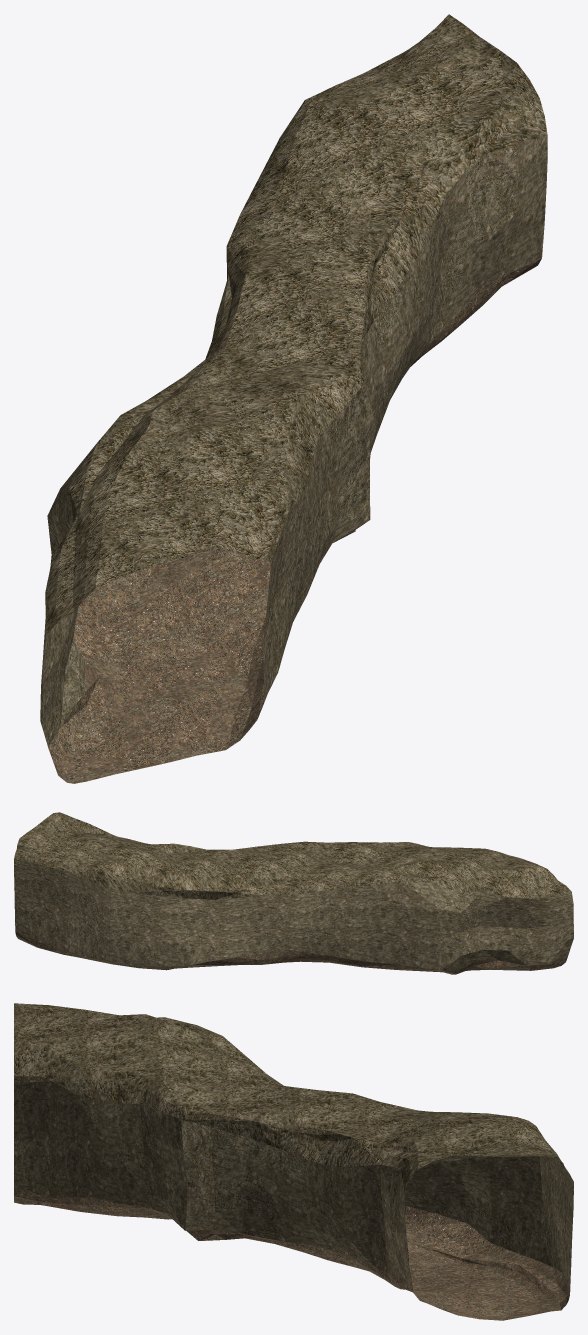
File: thm_tato_fort_tusken_r4_mesh_r4.fbx
3 renders of one model, top to bottom at view 1: azimuth 30°, elevation 25°; view 2: azimuth 150°, elevation 25°; view 3: azimuth 270°, elevation 25°, orthographic. The views are drawn at different scales.
Visible parts, largest first — view 1: mesh_node; view 2: mesh_node; view 3: mesh_node.
Boxes of the visible parts, left/top/right/bottom form: mesh_node: left=40, top=14, right=547, bottom=783; mesh_node: left=14, top=812, right=573, bottom=974; mesh_node: left=14, top=1003, right=573, bottom=1320.
Bounding box in the file's own units: 29.23 × 12.53 × 24.17.
